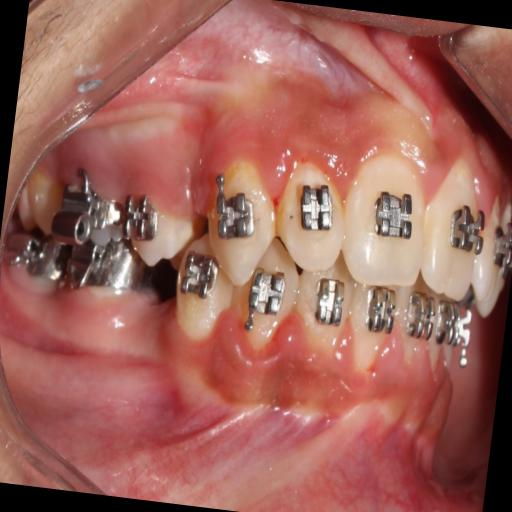correct_brace: (118, 186, 198, 270), (366, 182, 416, 249), (210, 185, 262, 246), (292, 179, 339, 237), (446, 200, 488, 260)
incorrect_brace: (269, 158, 352, 276), (121, 190, 160, 244)
